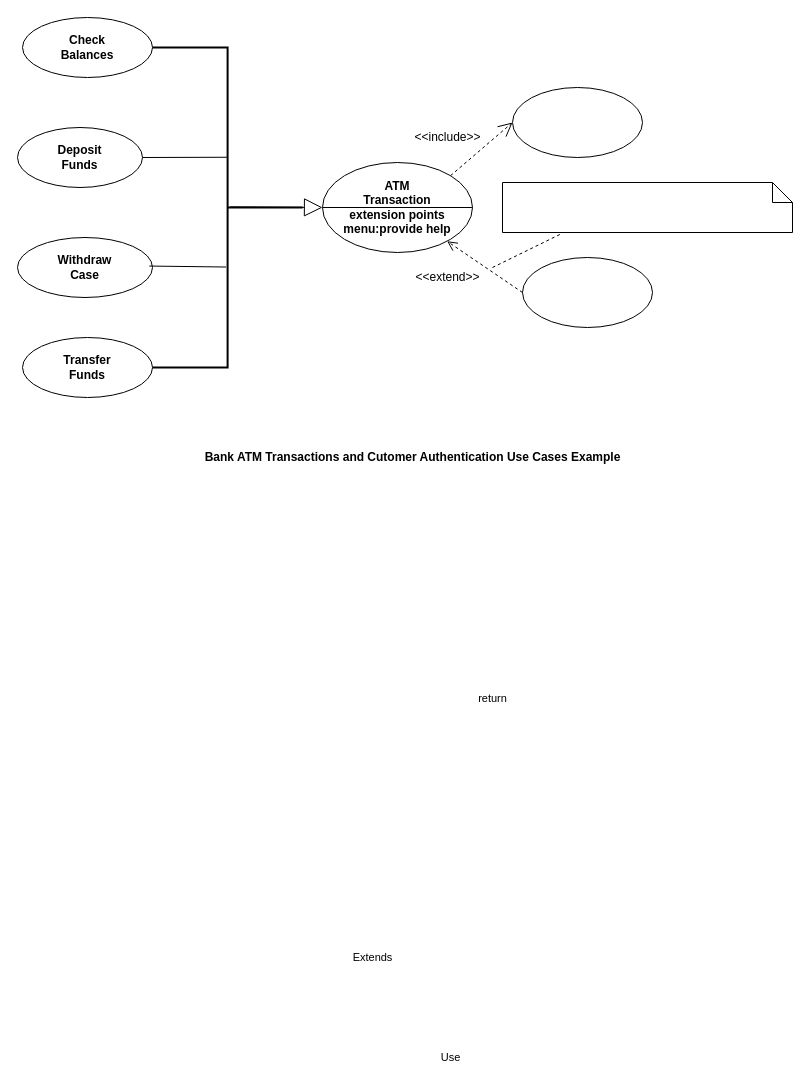
Image size: 810x1082. Some labels were removed from this diagram. Each missing label, with the centre of its shape:
"ATM Help" goes at pixel 587 292.
"condition:{Button.Help.Help->isPushed()} extension point:menu" goes at pixel 647 207.
"Customer Authentication" goes at pixel 577 122.
